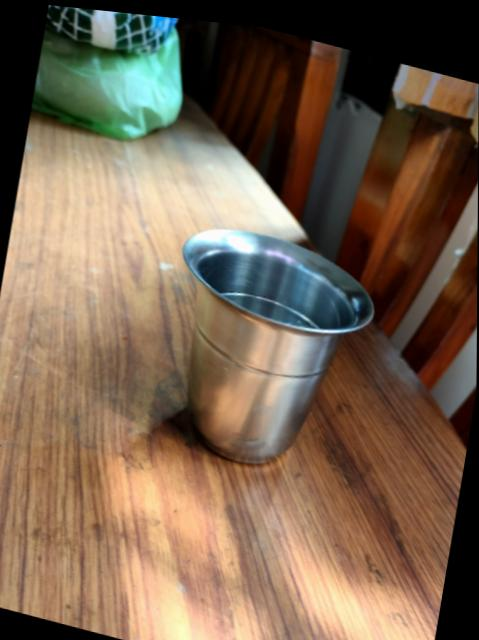Cup: (182, 230, 373, 463)
